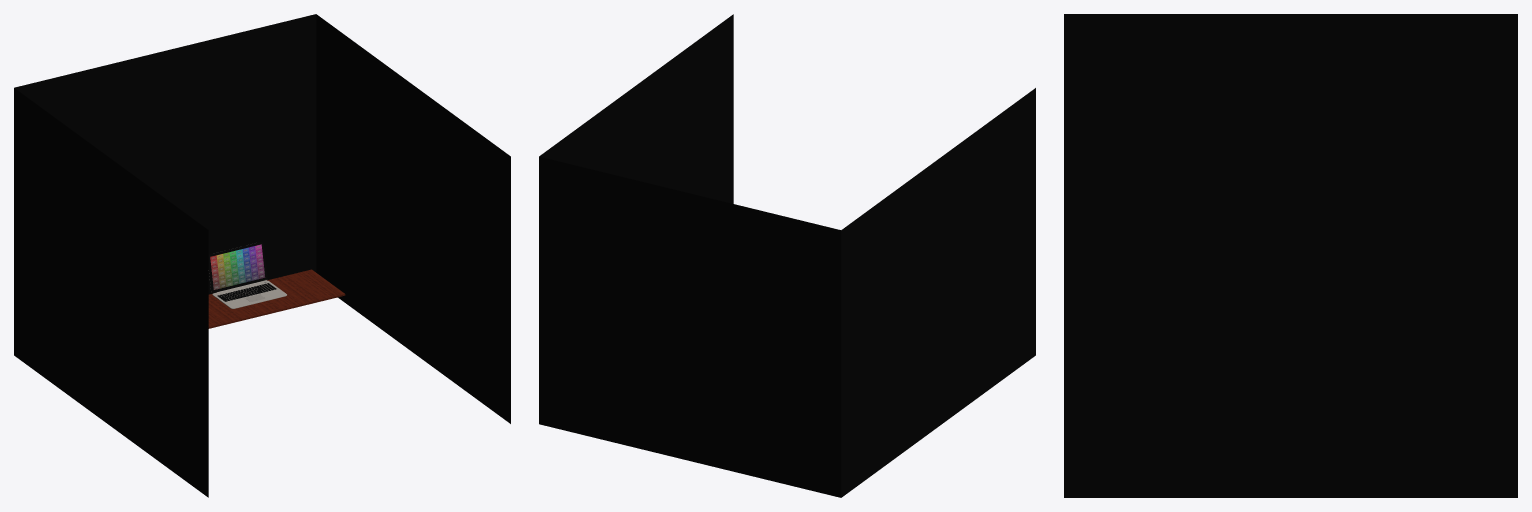
3 renders of one model, left to right at view 1: azimuth 30°, elevation 25°; view 2: azimuth 150°, elevation 25°; view 3: azimuth 270°, elevation 25°, orthographic. The views are drawn at different scales.
Visible parts, largest first — view 1: Cube, Cube.002, Plane, Cube.002_Laptop_0.001; view 2: Cube; view 3: Cube.
Boxes of the visible parts, x1,y1,x2,y2 form: Cube: (14, 14, 510, 497); Cube.002: (208, 269, 345, 328); Plane: (210, 244, 265, 289); Cube.002_Laptop_0.001: (208, 242, 286, 308); Cube: (539, 14, 1035, 497); Cube: (1064, 14, 1517, 497).
Size of the model in its own units: 2.33 by 1.97 by 2.6.
Materials: 5 (3 with a texture image).
